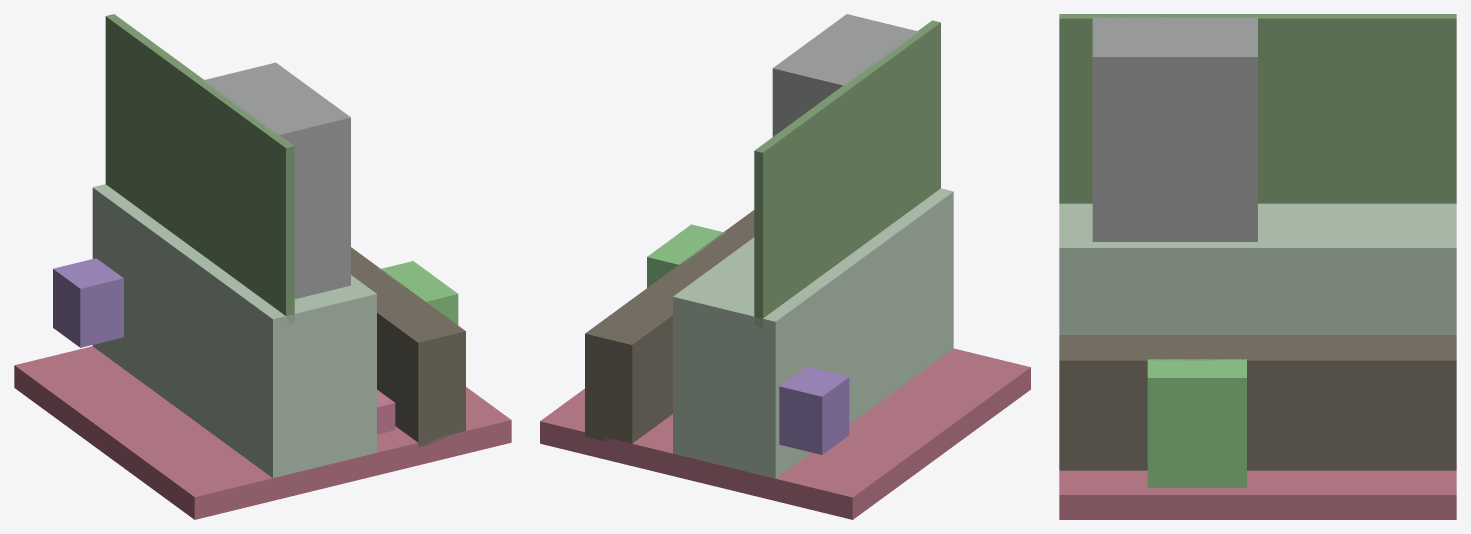
3 renders of one model, left to right at view 1: azimuth 30°, elevation 25°; view 2: azimuth 150°, elevation 25°; view 3: azimuth 270°, elevation 25°, orthographic. The views are drawn at different scales.
Parts seen in each view (by area): view 1: world; view 2: world; view 3: world.
Part boxes in pixels (x1,y1,x2,y2): world: (14, 14, 511, 519); world: (540, 14, 1030, 519); world: (1059, 14, 1456, 519).
Bounding box in the file's own units: 7.3 × 7.7 × 7.2.
